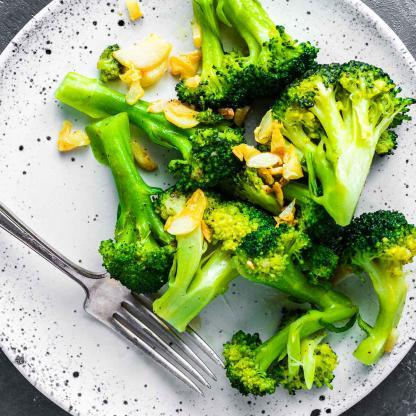broccoli: (52, 0, 416, 397)
